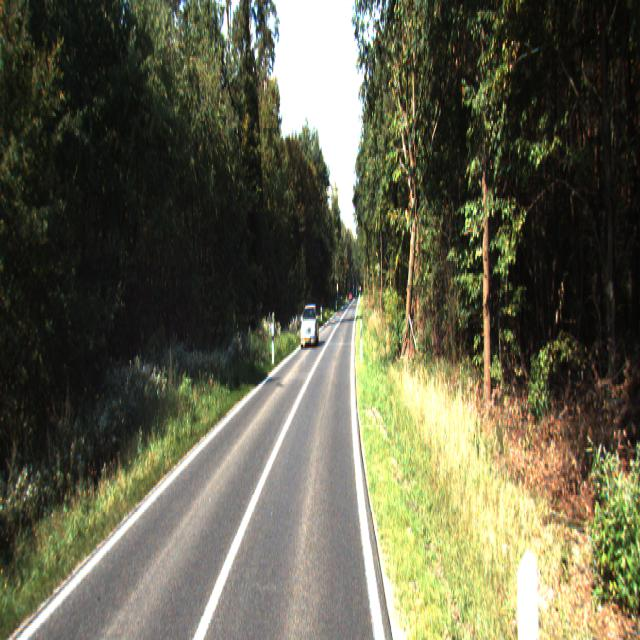Car: (300, 304, 320, 350)
